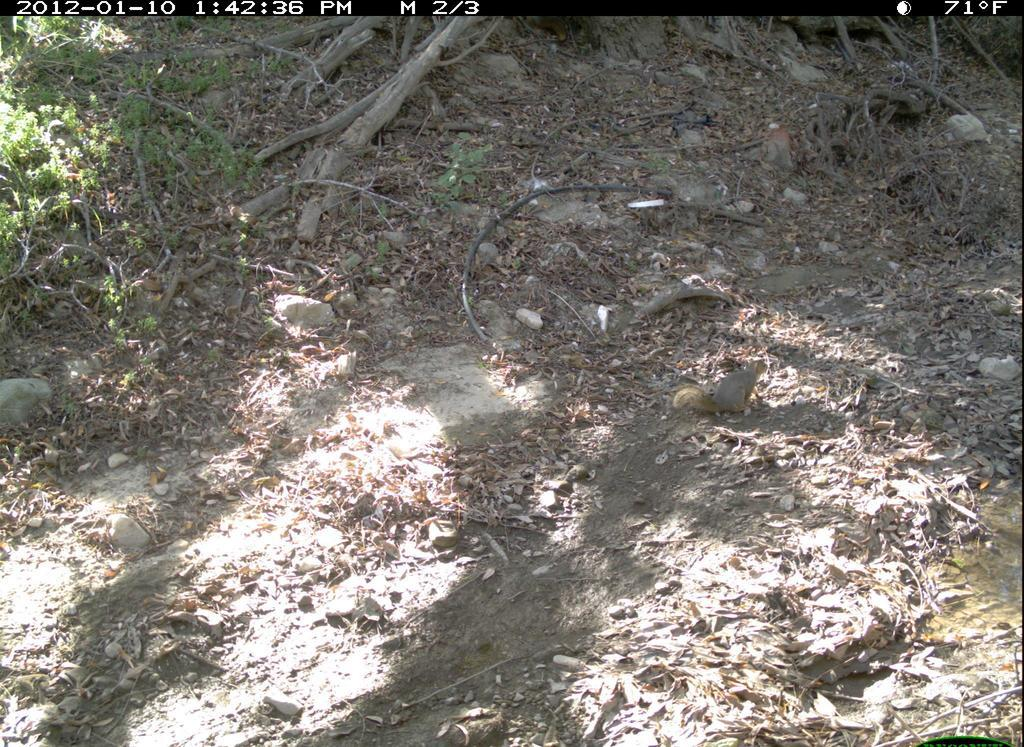squirrel: (662, 351, 774, 432)
